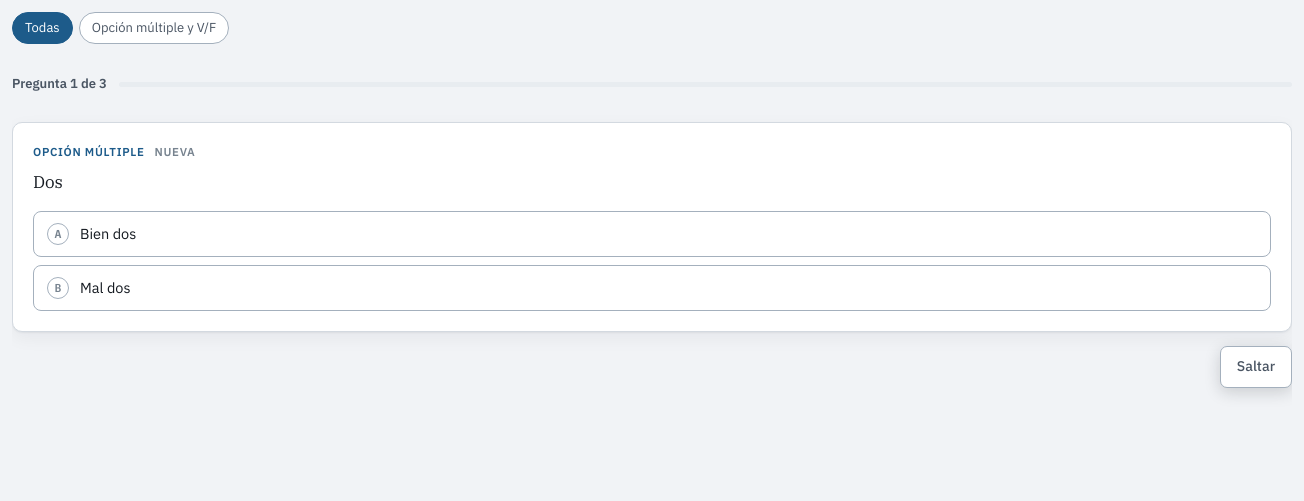
Test case: práctica de un tema › al terminar muestra el resultado, en lugar de volver a empezar
The width and height of the screenshot is (1304, 501).
Click the text "Bien dos" at (108, 234), box [80,223,136,244]
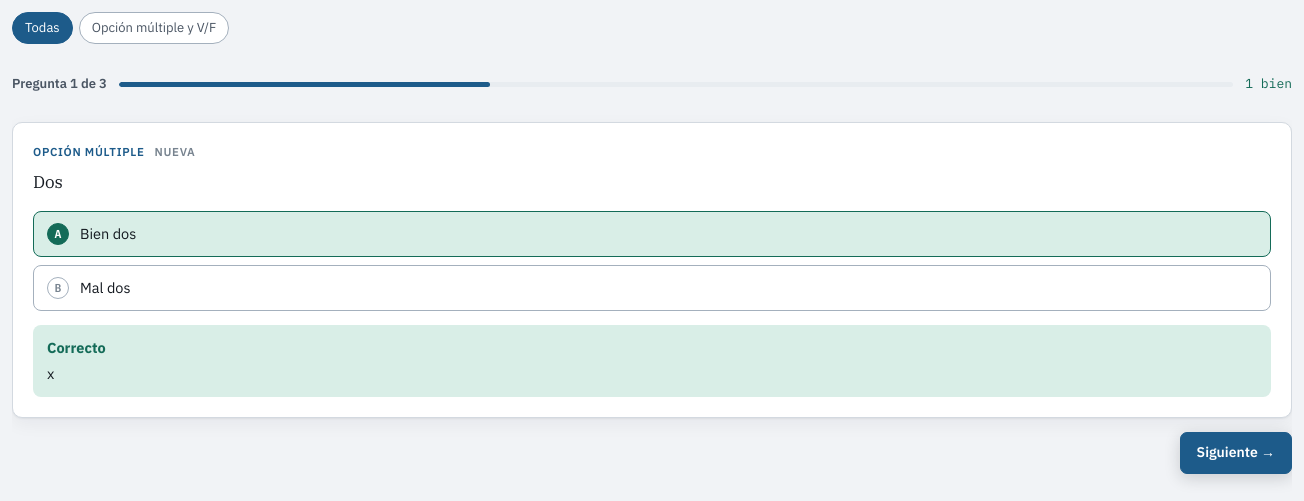
Click the button "Siguiente →" at (1236, 453), box [1180,432,1292,474]
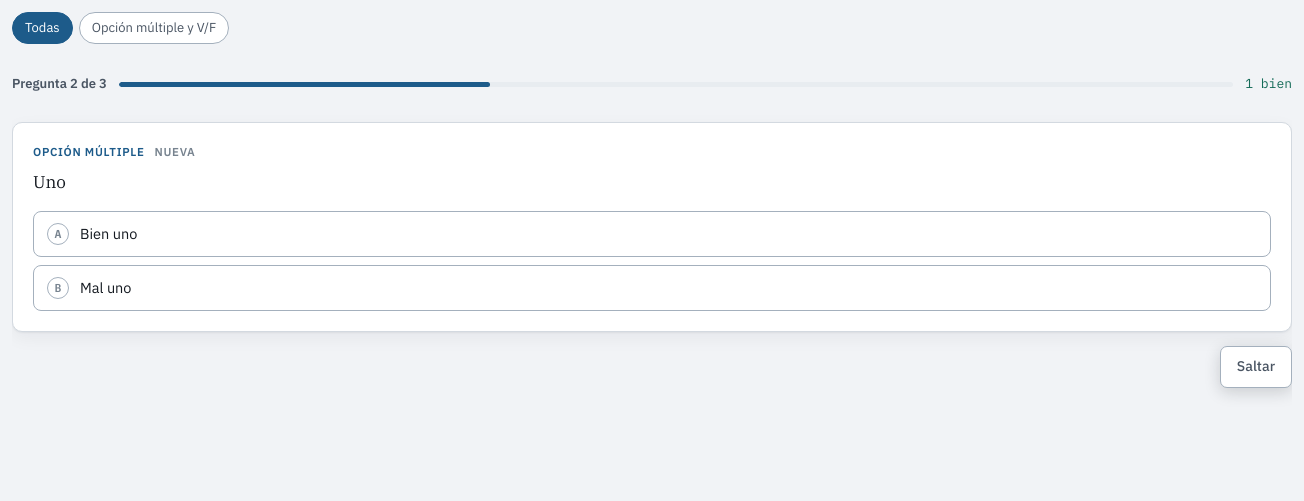
Click the text "Bien uno" at (109, 234), box [80,223,137,244]
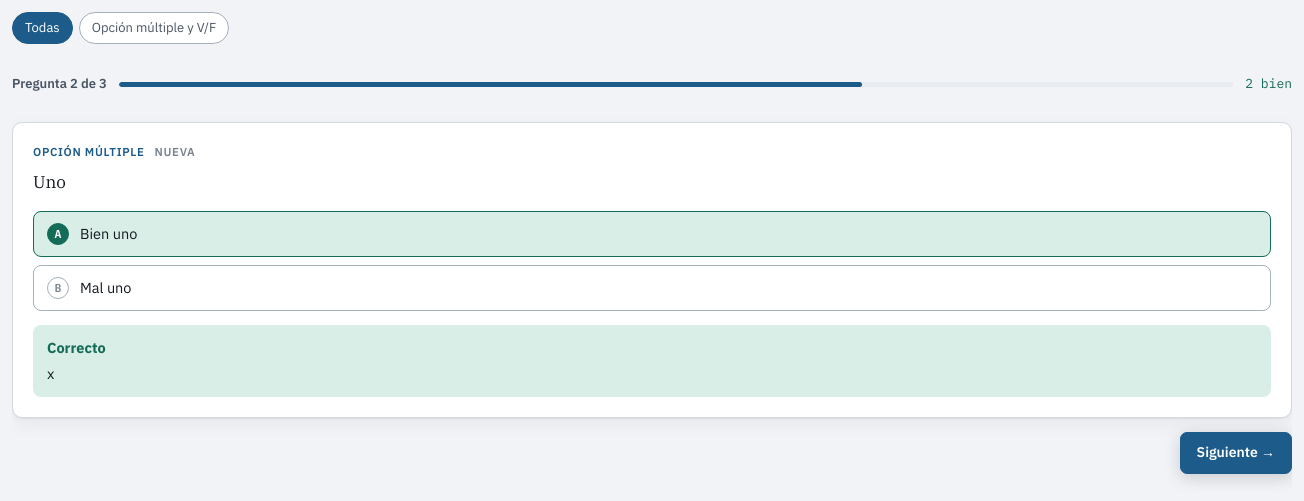
Click the button "Siguiente →" at (1236, 453), box [1180,432,1292,474]
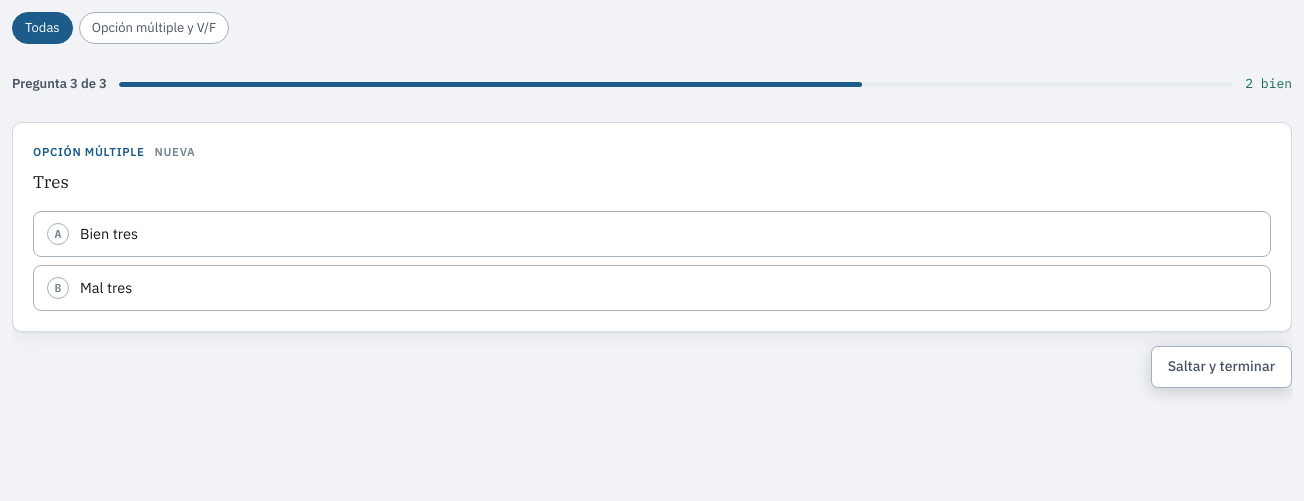
Click the text "Bien tres" at (109, 234), box [80,223,138,244]
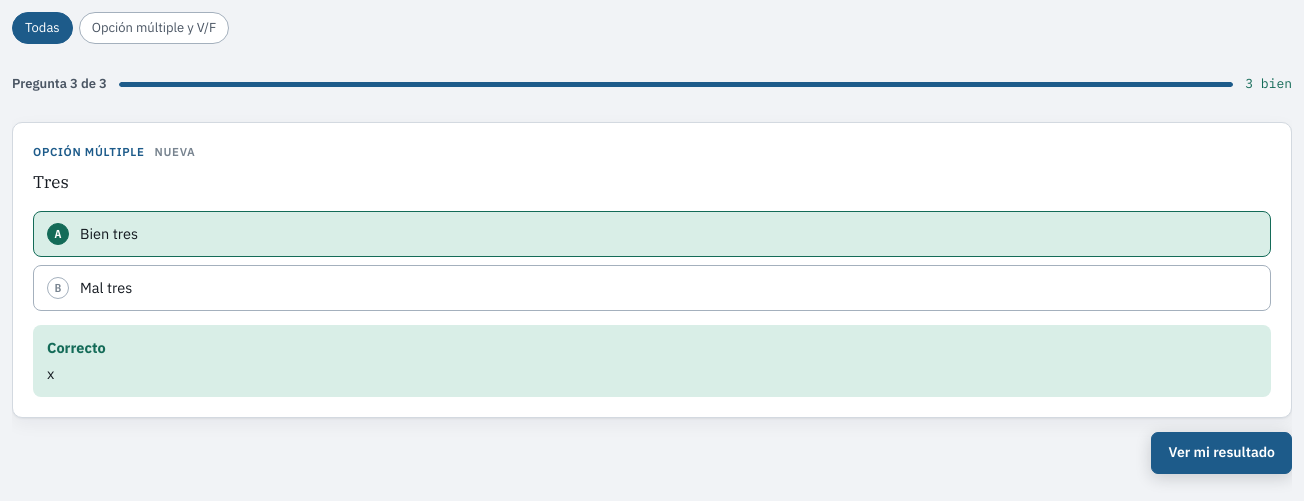
Expected: the button "Ver mi resultado" is shown
Click the button "Ver mi resultado" at (1222, 453), box [1152,432,1292,474]
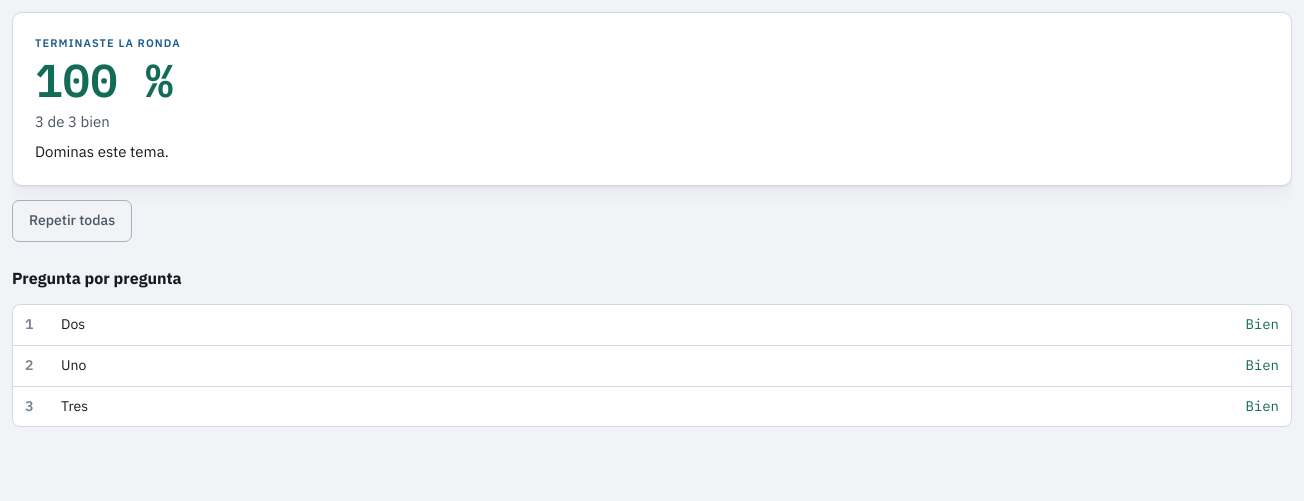
Expected: the text "Terminaste la ronda" is shown, [35,36,181,50]
Expected: the text "100 %" is shown, [35,50,173,110]
Expected: the text "3 de 3 bien" is shown, [35,112,110,131]
